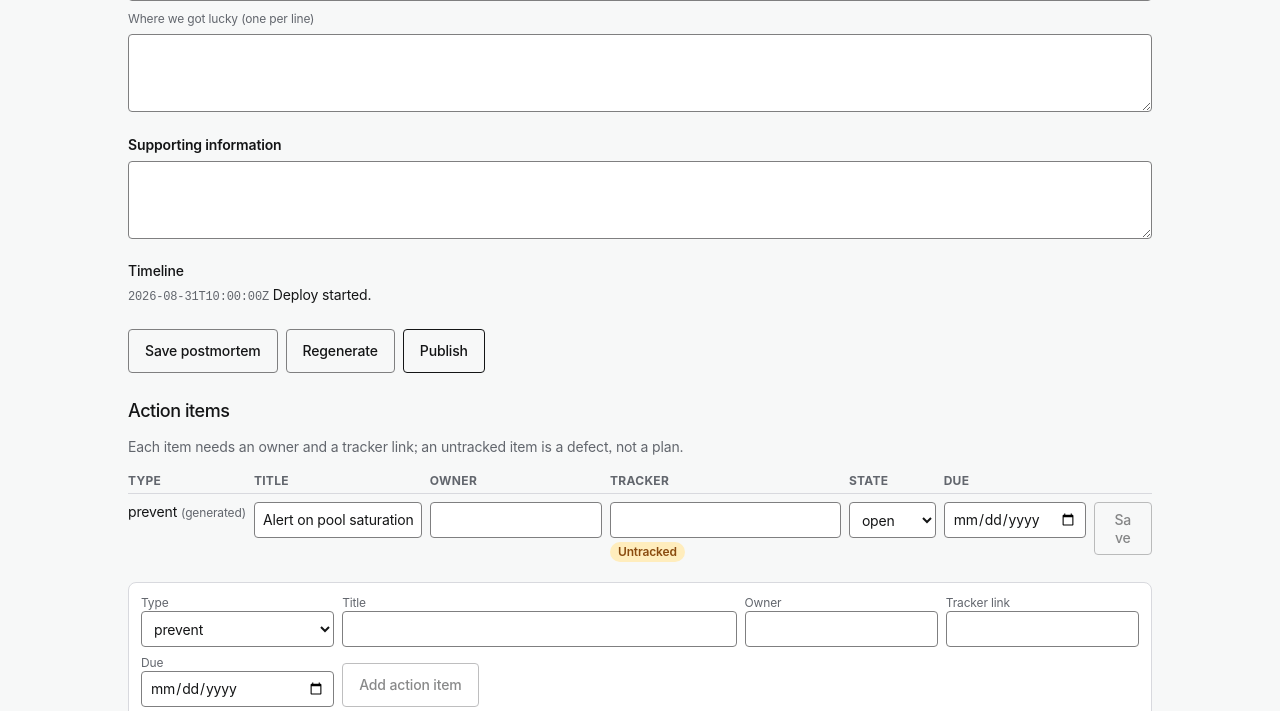
Test case: PostmortemPage › Publish confirms, posts publish and reloads the published document
(page scrolled)
Click the button "Publish". click: (444, 351)
box: [403,329,485,373]
(page scrolled)
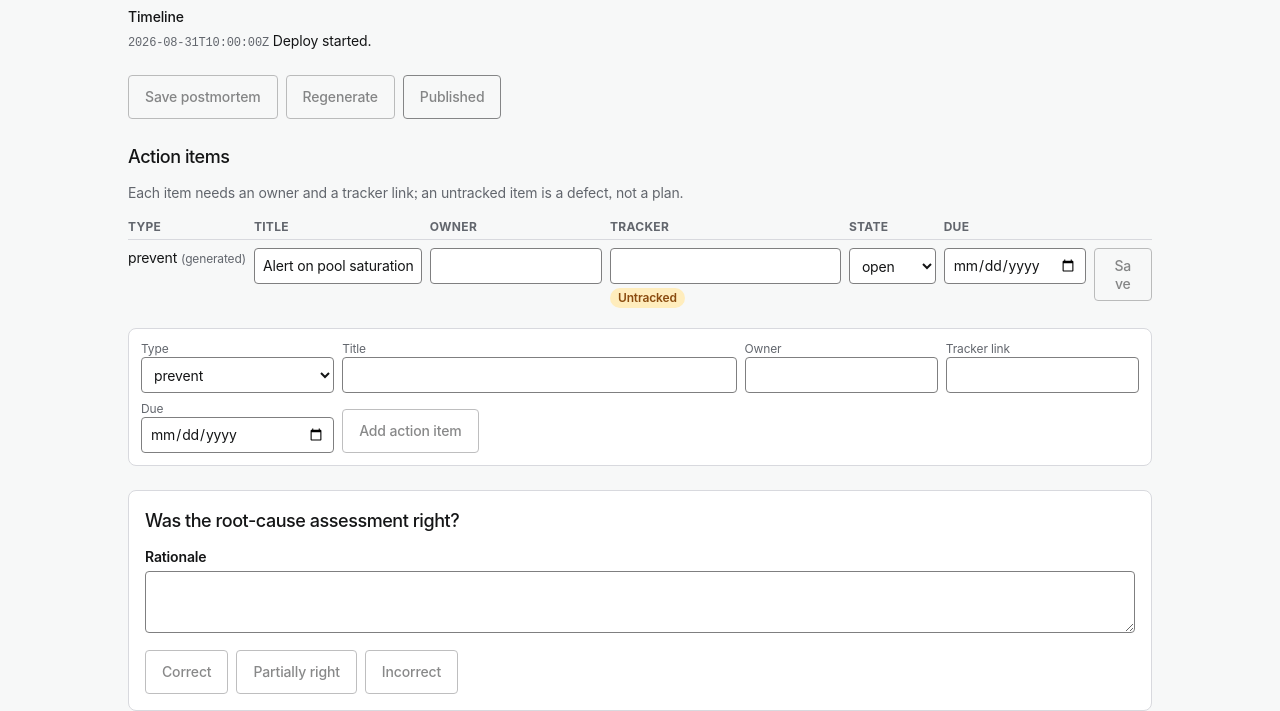
Now the button "Published" is disabled, box [403,75,501,119]
Now the heading "Was the root-cause assessment right?" is shown, box [145,510,459,531]
